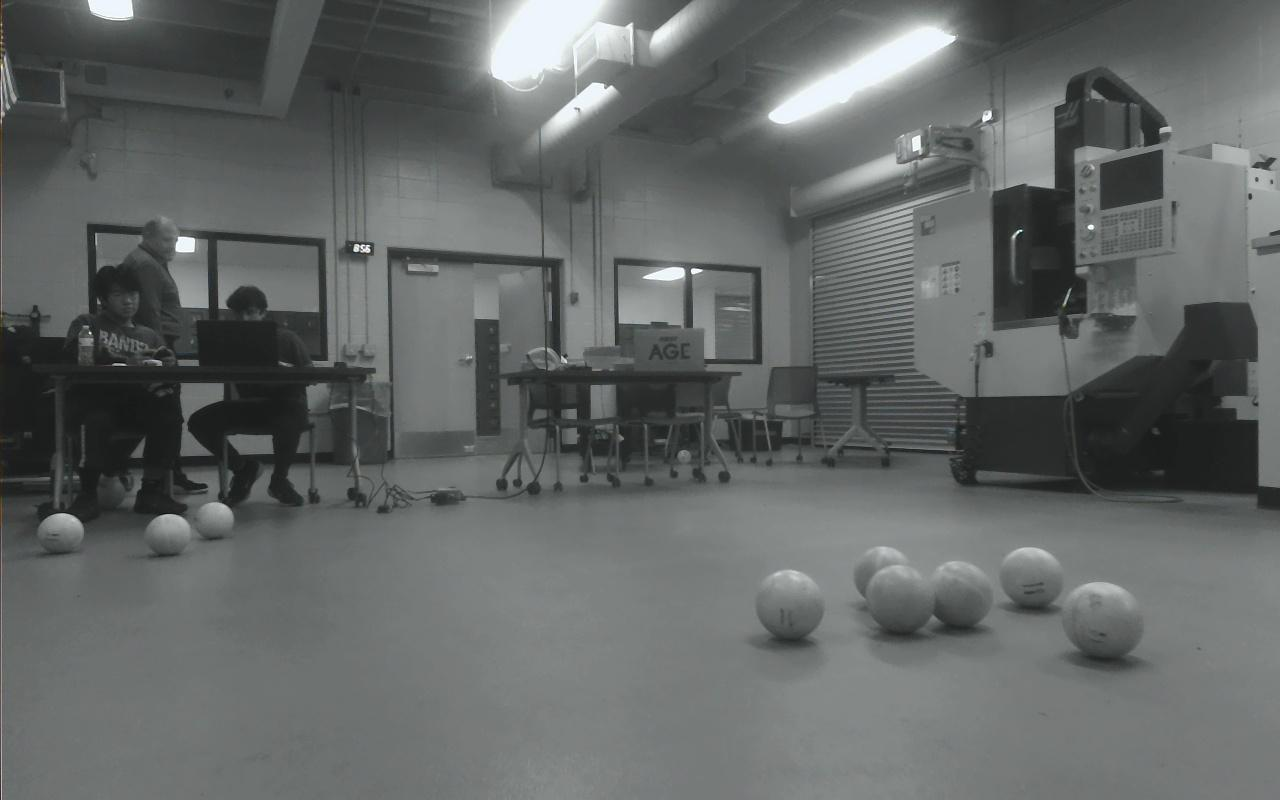Fuel: (1062, 582, 1146, 661), (756, 569, 826, 641), (865, 564, 936, 634), (928, 561, 995, 628), (1000, 547, 1065, 609), (854, 546, 911, 600), (145, 514, 191, 556), (38, 513, 84, 553), (195, 502, 234, 538)
